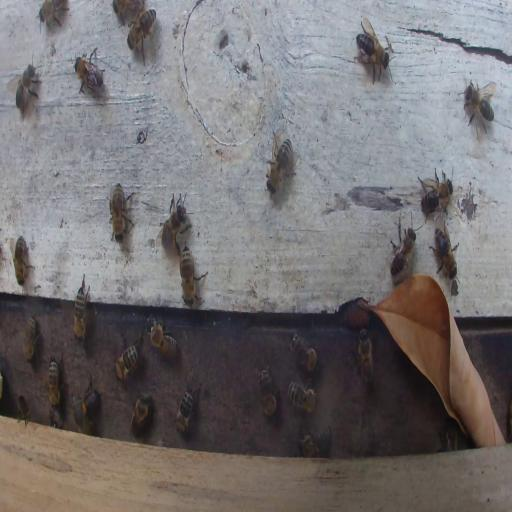nonpollenbee: (352, 14, 394, 86), (458, 77, 496, 137), (157, 190, 191, 251), (177, 243, 208, 306), (265, 131, 295, 196), (418, 167, 455, 218), (430, 221, 460, 280), (126, 3, 158, 57), (72, 48, 107, 97), (388, 219, 416, 280), (108, 180, 132, 242), (14, 62, 40, 116), (174, 384, 201, 432), (114, 332, 140, 381), (147, 318, 178, 358), (288, 332, 319, 372), (10, 234, 32, 288), (256, 364, 278, 416), (356, 329, 374, 390), (300, 424, 331, 457), (287, 379, 317, 413), (130, 392, 151, 436), (37, 0, 69, 28), (73, 281, 87, 342), (22, 314, 39, 363), (47, 358, 60, 410), (437, 426, 459, 452), (17, 393, 31, 425), (82, 388, 98, 414)
pollenbee: (70, 390, 88, 433)
